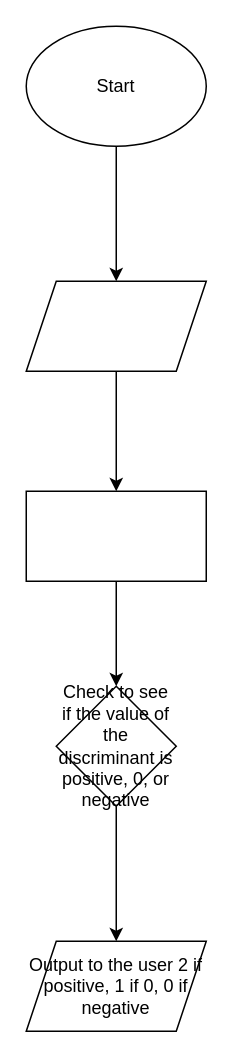
This 233x1058 diagram has some shape labels left out. Each missing label, with the centre of its shape:
"Calculate the value of the discriminant using: (b^2) - (4*a*c)" goes at (115,535).
"Prompt user to input the a, b, and c values" goes at (115,325).
